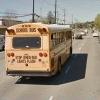Bus: (3, 18, 79, 80)
